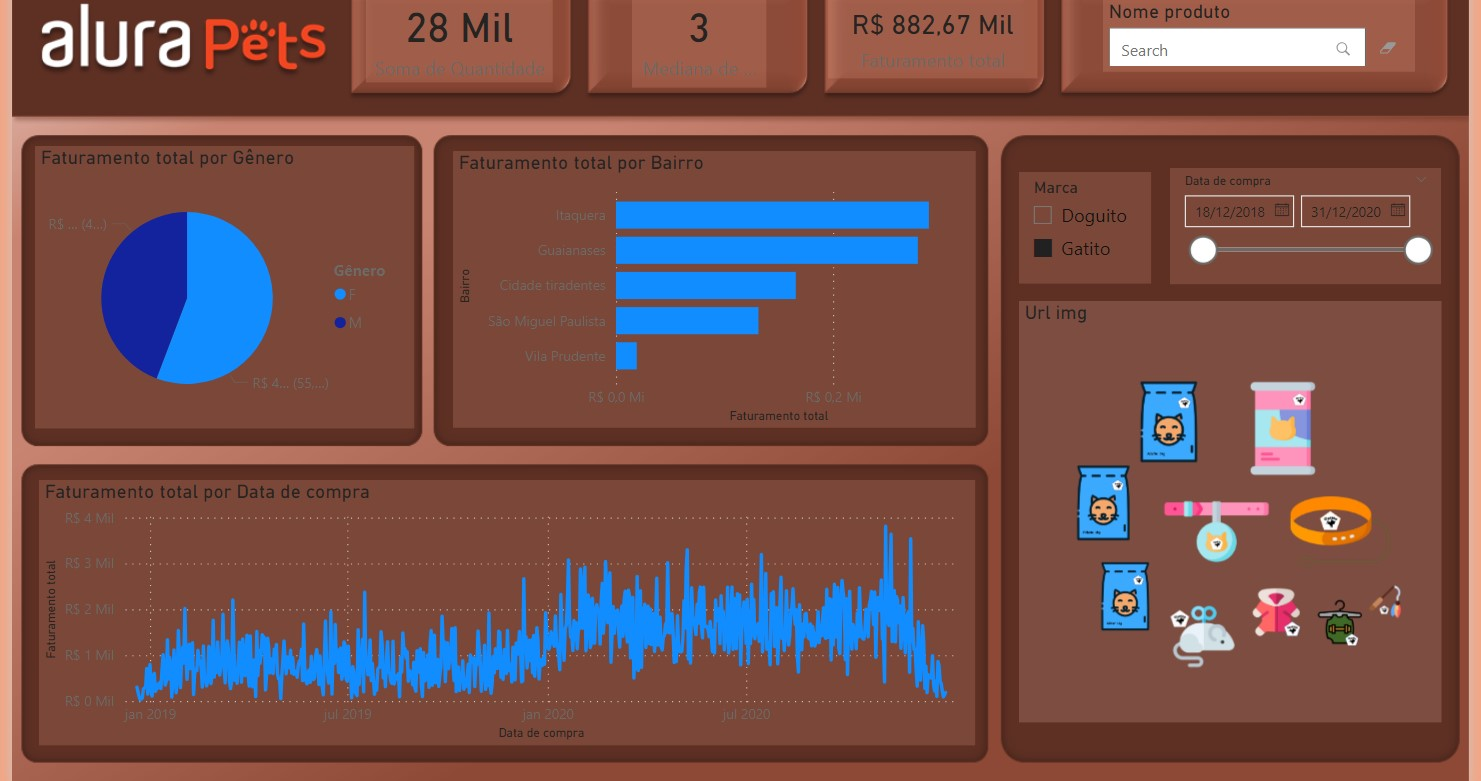

The page's visual inventory and layout, read from the dashboard file:
{"tool":"powerbi","page":{"name":"Página 1","canvas":[1280,720],"ordinal":0},"visuals":[{"type":"card","fields":{"Values":["vendas.Faturamento total"]},"box":[716.3,25.3,183.7,74.8],"z":0},{"type":"card","fields":{"Values":["Median(Clientes.Pets)"]},"box":[544.3,17.5,117.6,91.4],"z":1000},{"type":"card","fields":{"Values":["Sum(vendas.Quantidade)"]},"box":[311,22.4,164.3,81.6],"z":2000},{"type":"pieChart","fields":{"Category":["Clientes.Gênero"],"Y":["vendas.Faturamento total"]},"box":[20.4,159.4,333.4,247.8],"z":3000},{"type":"clusteredBarChart","fields":{"Category":["Clientes.Bairro"],"Y":["vendas.Faturamento total"]},"box":[386.8,164.3,458.7,243],"z":4000},{"type":"lineChart","fields":{"Category":["vendas.Data de compra"],"Y":["vendas.Faturamento total"]},"box":[23.3,452.9,822.2,233.3],"z":5000},{"type":"ImageGrid_FC5183B9_926C_45E0_B5F7_0CE9EAF1DA9B","fields":{"ImageURL":["produtos.Url img"]},"box":[884.3,295.8,370.9,370],"z":6000},{"type":"slicer","fields":{"Values":["produtos.Marca"]},"box":[884.3,183,115.7,97.9],"z":7000},{"type":"slicer","fields":{"Values":["vendas.Data de compra"]},"box":[1016.9,179,238.4,101.9],"z":8000},{"type":"textFilter25A4896A83E0487089E2B90C9AE57C8A","fields":{"field":["produtos.Nome produto"]},"box":[957.5,31.7,274,63.3],"z":9000}]}

Visuals, with their boxes on the page's 1280x720 design canvas (x1, y1, x2, y2). These are canvas units, not pixel positions in the 1481x781 screenshot, which may show the page scaled, cropped or inside an application window:
card - vendas.Faturamento total: 716, 25, 900, 100
card - Median(Clientes.Pets): 544, 18, 662, 109
card - Sum(vendas.Quantidade): 311, 22, 475, 104
pieChart - Clientes.Gênero x vendas.Faturamento total: 20, 159, 354, 407
clusteredBarChart - Clientes.Bairro x vendas.Faturamento total: 387, 164, 846, 407
lineChart - vendas.Data de compra x vendas.Faturamento total: 23, 453, 846, 686
ImageGrid_FC5183B9_926C_45E0_B5F7_0CE9EAF1DA9B - produtos.Url img: 884, 296, 1255, 666
slicer - produtos.Marca: 884, 183, 1000, 281
slicer - vendas.Data de compra: 1017, 179, 1255, 281
textFilter25A4896A83E0487089E2B90C9AE57C8A - produtos.Nome produto: 958, 32, 1232, 95
